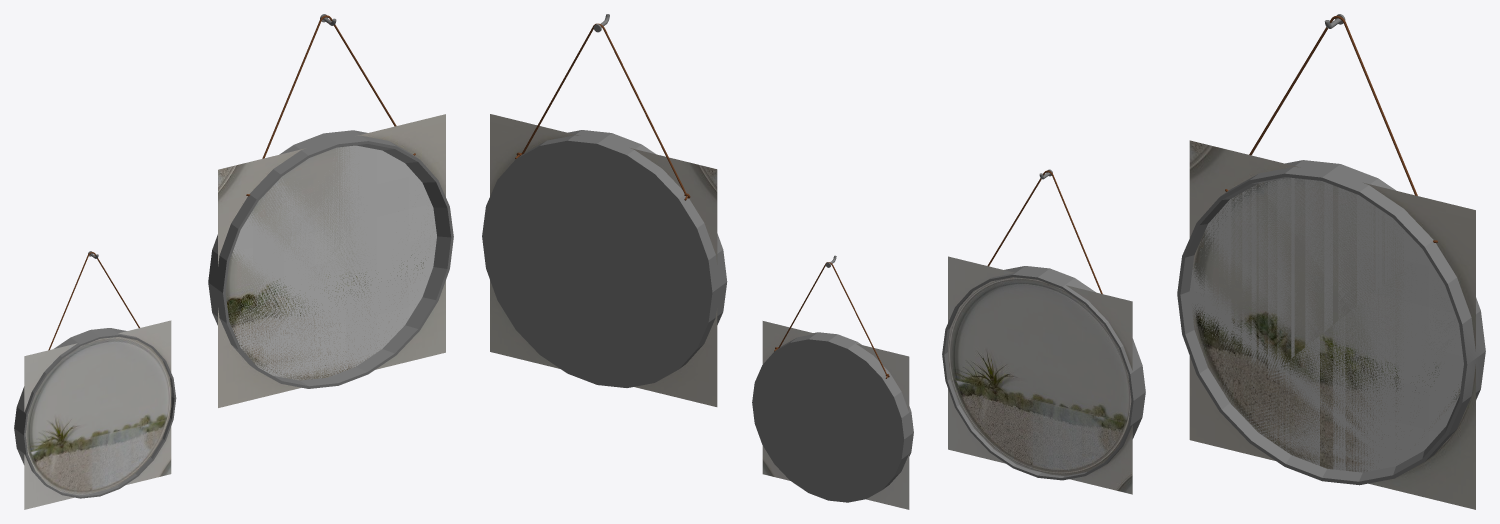
File: succulent_decoration.glb
3 views of the same model, side by side, from view 1: azimuth 30°, elevation 25°; view 2: azimuth 150°, elevation 25°; view 3: azimuth 330°, elevation 25° (orthographic). The views are drawn at different scales.
Parts seen in each view (by area): view 1: mesh_11_ROOT__Component_953__Component_954__Component_5330_1, mesh_12_ROOT__Component_953__Component_954__Component_5330__, mesh_28_ROOT__Component_953__Component_7133__Component_11509, mesh_9_ROOT__Component_953__Component_954__Component_5330_1 , mesh_25_ROOT__Component_953__Component_7133__Component_11509; view 2: mesh_9_ROOT__Component_953__Component_954__Component_5330_1 , mesh_25_ROOT__Component_953__Component_7133__Component_11509, mesh_12_ROOT__Component_953__Component_954__Component_5330__, mesh_28_ROOT__Component_953__Component_7133__Component_11509, mesh_1_ROOT__Component_953__Component_954__Component_7134__C; view 3: mesh_12_ROOT__Component_953__Component_954__Component_5330__, mesh_11_ROOT__Component_953__Component_954__Component_5330_1, mesh_28_ROOT__Component_953__Component_7133__Component_11509, mesh_9_ROOT__Component_953__Component_954__Component_5330_1 , mesh_25_ROOT__Component_953__Component_7133__Component_11509, mesh_5_ROOT__Component_953__Component_954__Component_7134__C.
Part boxes in pixels (box(x1,y1,x2,y2)): mesh_11_ROOT__Component_953__Component_954__Component_5330_1: box(229, 145, 436, 380); mesh_12_ROOT__Component_953__Component_954__Component_5330__: box(218, 114, 445, 407); mesh_28_ROOT__Component_953__Component_7133__Component_11509: box(24, 320, 171, 509); mesh_9_ROOT__Component_953__Component_954__Component_5330_1 : box(208, 130, 453, 388); mesh_25_ROOT__Component_953__Component_7133__Component_11509: box(14, 328, 176, 498); mesh_9_ROOT__Component_953__Component_954__Component_5330_1 : box(482, 130, 727, 387); mesh_25_ROOT__Component_953__Component_7133__Component_11509: box(752, 332, 913, 502); mesh_12_ROOT__Component_953__Component_954__Component_5330__: box(490, 114, 717, 406); mesh_28_ROOT__Component_953__Component_7133__Component_11509: box(762, 321, 909, 509); mesh_1_ROOT__Component_953__Component_954__Component_7134__C: box(599, 23, 684, 189); mesh_12_ROOT__Component_953__Component_954__Component_5330__: box(1189, 140, 1475, 509); mesh_11_ROOT__Component_953__Component_954__Component_5330_1: box(1189, 177, 1463, 472); mesh_28_ROOT__Component_953__Component_7133__Component_11509: box(948, 256, 1132, 494); mesh_9_ROOT__Component_953__Component_954__Component_5330_1 : box(1177, 160, 1485, 485); mesh_25_ROOT__Component_953__Component_7133__Component_11509: box(942, 266, 1145, 480); mesh_5_ROOT__Component_953__Component_954__Component_7134__C: box(1338, 16, 1417, 195).
Bounding box in the file's own units: 826 × 785 × 53.29.
Materials: 10 (4 with a texture image).
